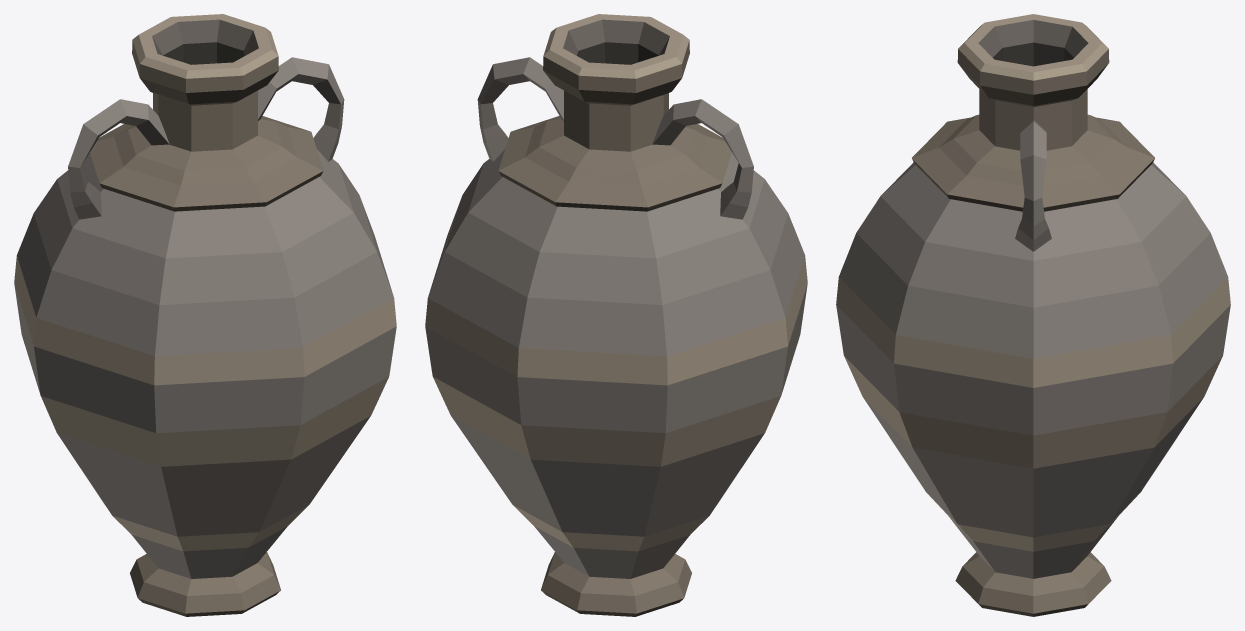
The model's file is Vase_01.glb.
The picture shows the model from 3 angles, left to right: view 1: azimuth 30°, elevation 25°; view 2: azimuth 150°, elevation 25°; view 3: azimuth 270°, elevation 25°; orthographic projection.
Visible parts, largest first — view 1: Vase_01; view 2: Vase_01; view 3: Vase_01.
Part boxes in pixels (left/top/right/bottom): Vase_01: left=14, top=14, right=396, bottom=616; Vase_01: left=425, top=14, right=807, bottom=616; Vase_01: left=836, top=14, right=1230, bottom=616.
Size of what is drawn, in the model's own units: 0.6437 by 0.9773 by 0.6437.
1 material, 1 textured.
